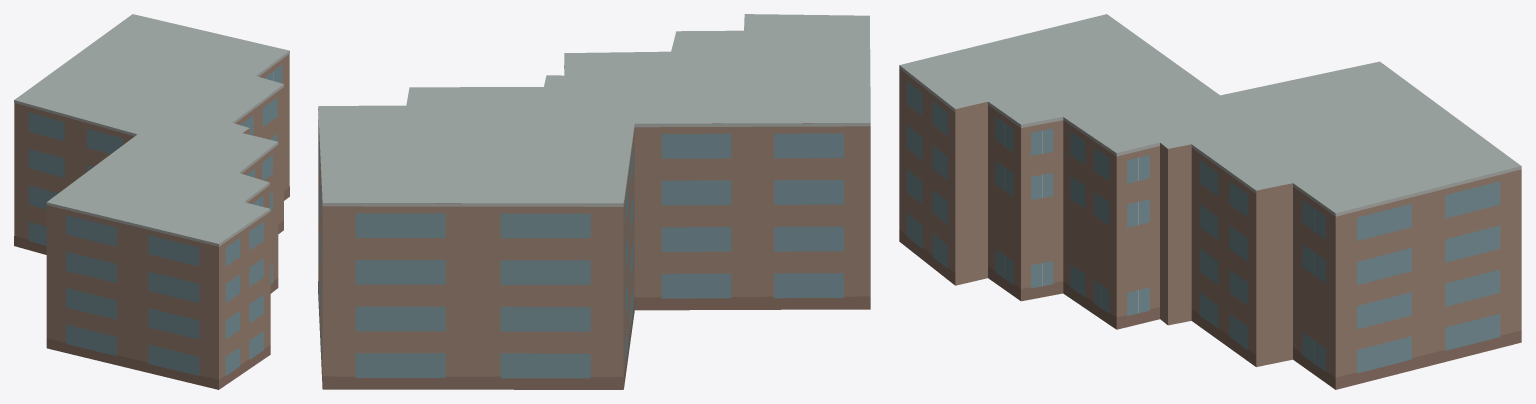
Rendered from survey-upis-32969600.glb.
3 views of the same model, side by side, from view 1: azimuth 30°, elevation 25°; view 2: azimuth 150°, elevation 25°; view 3: azimuth 270°, elevation 25° (orthographic). The views are drawn at different scales.
Parts seen in each view (by area): view 1: survey-upis-32969600.tmp; view 2: survey-upis-32969600.tmp; view 3: survey-upis-32969600.tmp.
Part boxes in pixels (left/top/right/bottom): survey-upis-32969600.tmp: left=14, top=14, right=289, bottom=389; survey-upis-32969600.tmp: left=318, top=14, right=870, bottom=389; survey-upis-32969600.tmp: left=899, top=14, right=1521, bottom=389.
Size of the model in its own units: 31.5 by 13 by 41.53.
